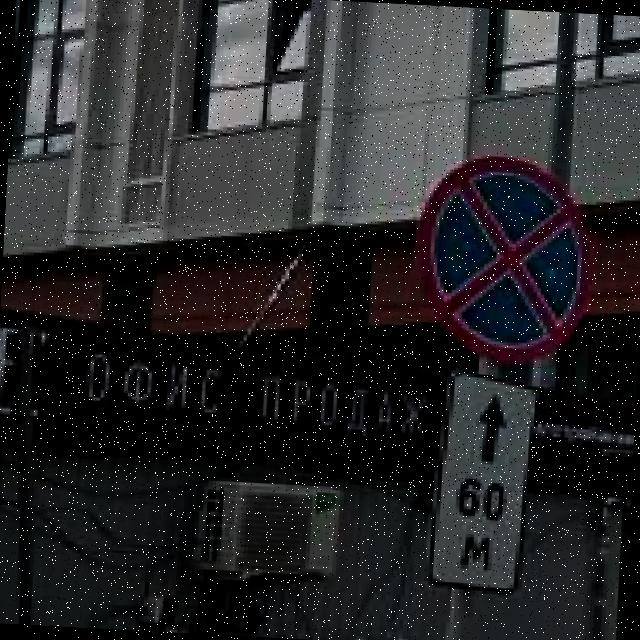Zakaz zatrzymywania sie: (406, 146, 602, 371)
